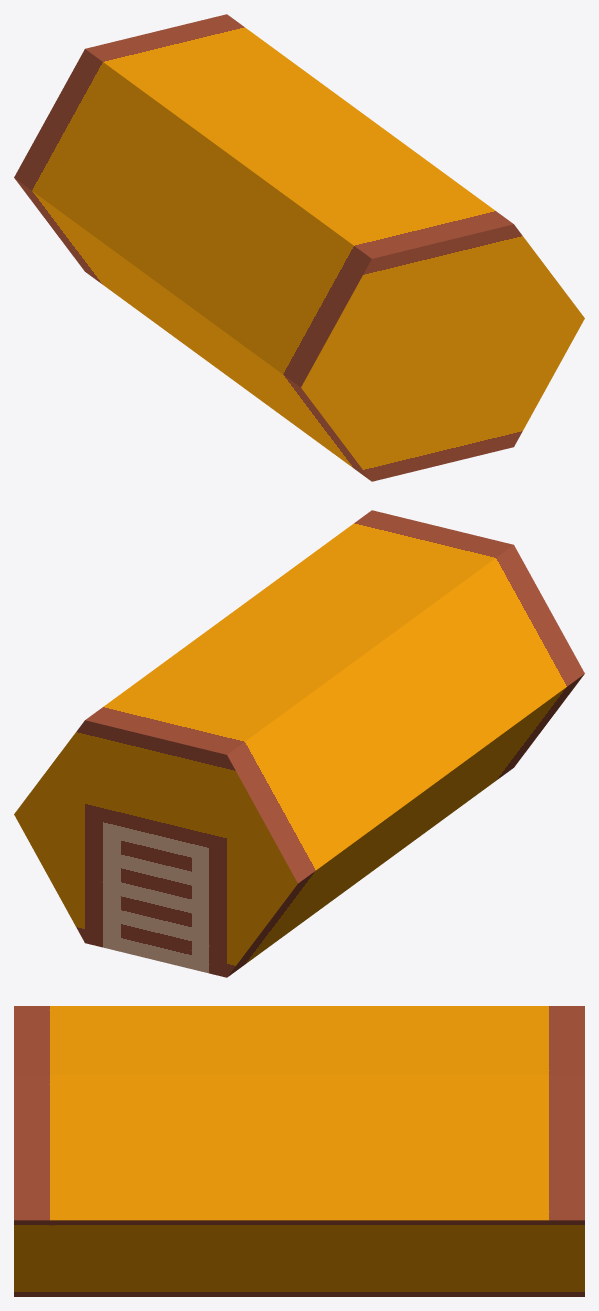
The model's file is guinea_pig_house.gltf.
3 renders of one model, top to bottom at view 1: azimuth 30°, elevation 25°; view 2: azimuth 150°, elevation 25°; view 3: azimuth 270°, elevation 25°, orthographic.
Bounding box in the file's own units: 2 × 1.5 × 3.5.
1 material, 1 textured.
